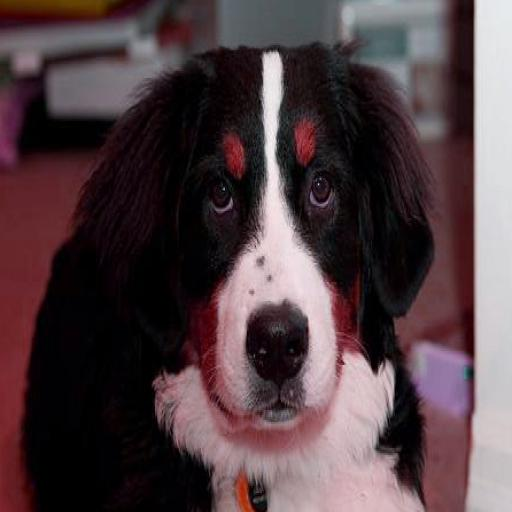dog_face: (99, 42, 420, 427)
